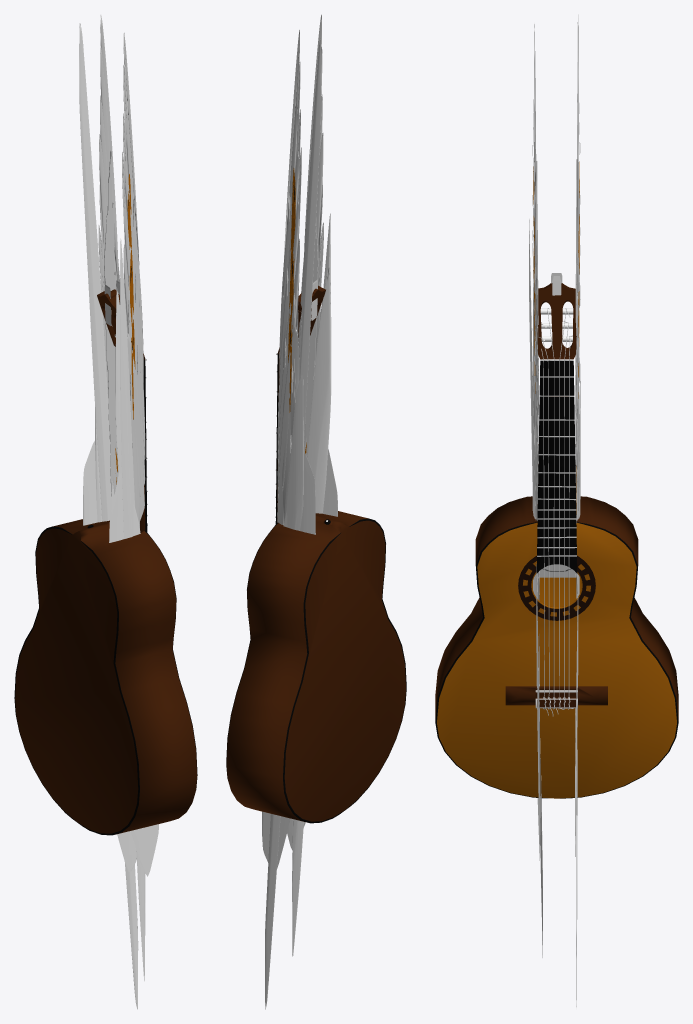
3 renders of one model, left to right at view 1: azimuth 30°, elevation 25°; view 2: azimuth 150°, elevation 25°; view 3: azimuth 270°, elevation 25°, orthographic. The views are drawn at different scales.
Parts seen in each view (by area): view 1: Cylinder.006, Cube.017, Cube.010, Cylinder.023, Cylinder.027, Cube.018, Cube.011, Cylinder.025, Cylinder.024, Cube.015, Cube.006, Cube.014 (+1 smaller); view 2: Cylinder.006, Cube.017, Cube.014, Cylinder.020, Cube.016, Cylinder.027, Cube.015, Cylinder.026, Cylinder.025, Cube.010, Cube.008, Cube.011 (+1 smaller); view 3: Cylinder.006, Cube.006, Cube.007, Cube.010, Cylinder.023, Cube.011, Cylinder.025, Cylinder.027, Cube.018, Cylinder.020, Cube.008, Cylinder.017 (+2 smaller).
Boxes of the visible parts, x1,y1,x2,y2 form: Cylinder.006: (14,519,197,835); Cube.017: (79,23,138,1009); Cube.010: (120,238,145,981); Cylinder.023: (127,211,145,527); Cylinder.027: (99,15,118,494); Cube.018: (103,151,116,496); Cube.011: (109,472,158,876); Cylinder.025: (122,33,140,499); Cylinder.024: (123,107,135,441); Cube.015: (83,441,136,871); Cube.006: (97,289,147,532); Cube.014: (115,287,121,473); Cylinder.006: (226,511,406,823); Cube.017: (265,38,321,1009); Cube.014: (307,265,331,513); Cylinder.020: (277,206,299,525); Cube.016: (286,375,303,530); Cylinder.027: (282,30,302,490); Cube.015: (262,451,315,868); Cylinder.026: (288,103,299,442); Cylinder.025: (304,14,323,372); Cube.010: (292,213,330,956); Cube.008: (305,149,318,455); Cube.011: (287,449,337,850); Cylinder.006: (435,496,678,798); Cube.006: (536,283,577,573); Cube.007: (505,686,607,708); Cube.010: (529,219,542,957); Cylinder.023: (533,218,539,598); Cube.011: (532,487,540,860); Cylinder.025: (534,23,537,488); Cylinder.027: (577,25,578,484); Cube.018: (575,159,580,488); Cylinder.020: (575,215,579,597); Cube.008: (533,160,538,454); Cylinder.017: (547,308,558,714).
Size of the model in its own units: 3.41 by 43.39 by 9.84.
Materials: 10 (1 with a texture image).
